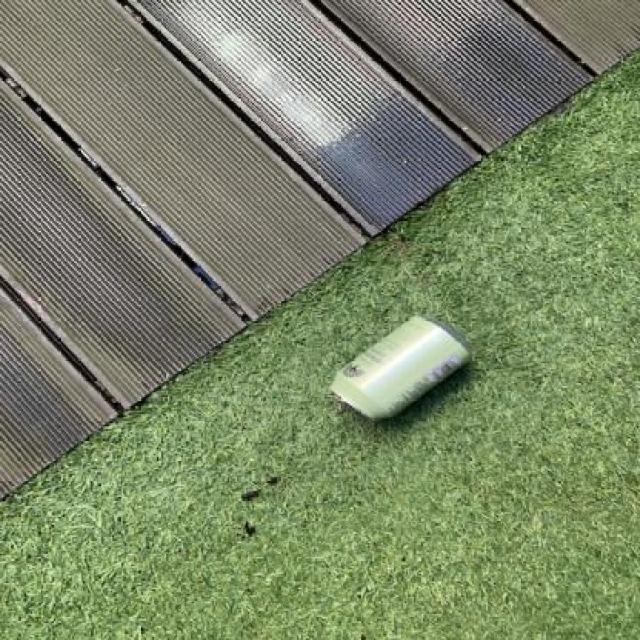trash: (332, 312, 486, 434)
